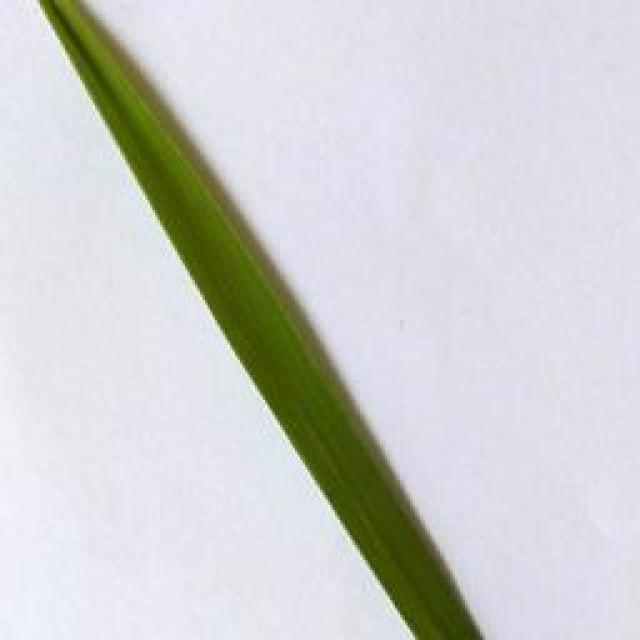Healthy-Plant: (40, 0, 473, 640)
